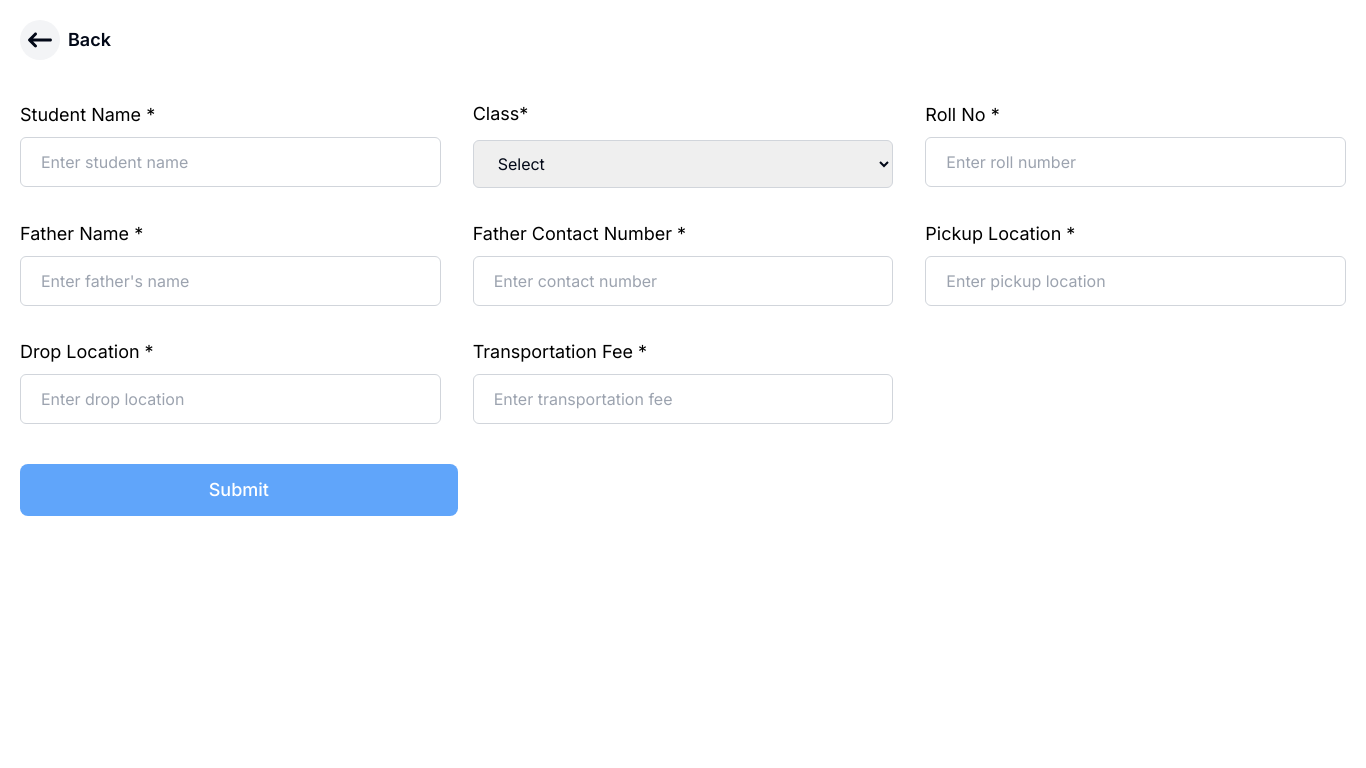
AddTranspotation Component › opens Successcard modal on successful submission
Click the button "Submit" at (239,490), box [20,464,458,516]
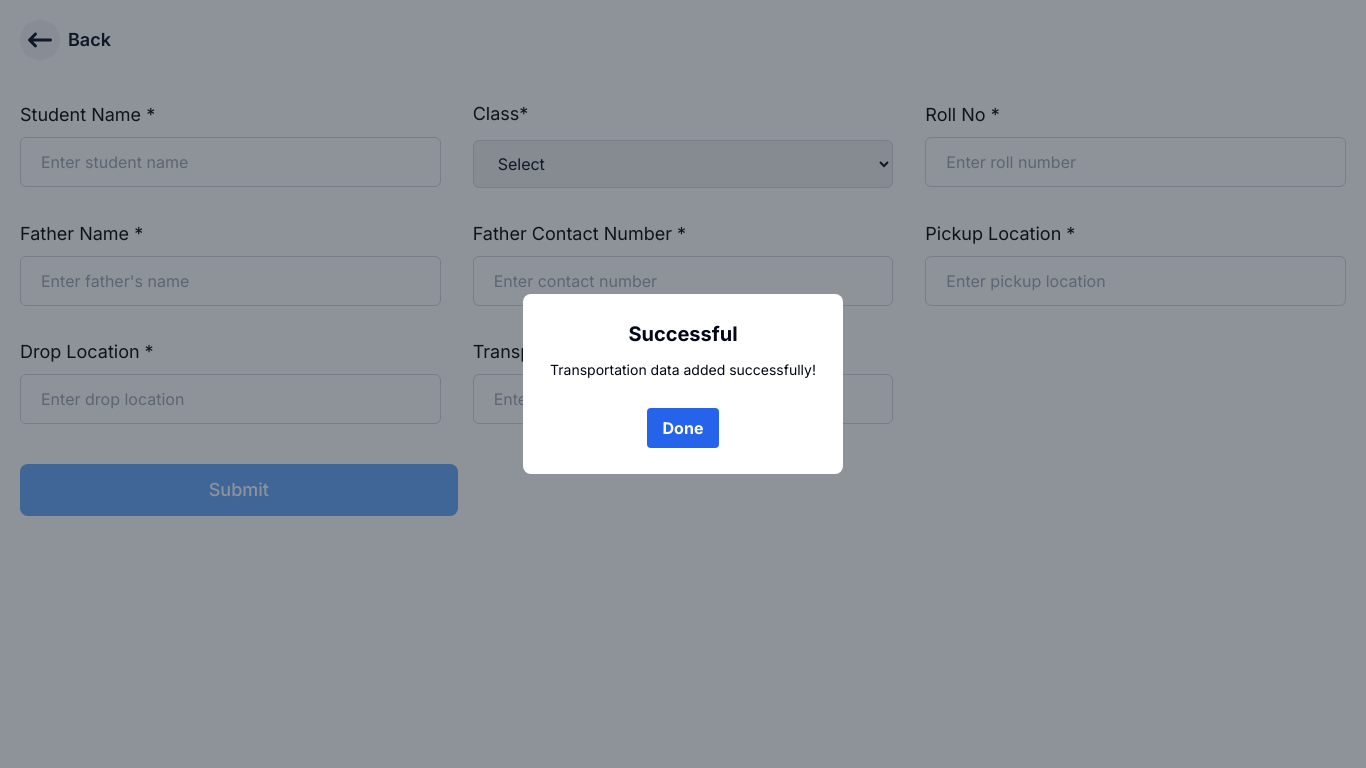
Expected: the heading "Transportation data added successfully!" is shown, [550,360,816,380]
